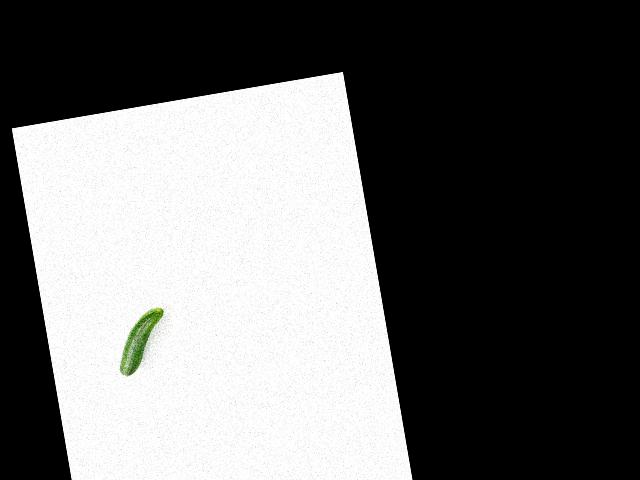cucumber: (111, 306, 173, 377)
